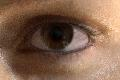eye: (43, 22, 73, 49)
